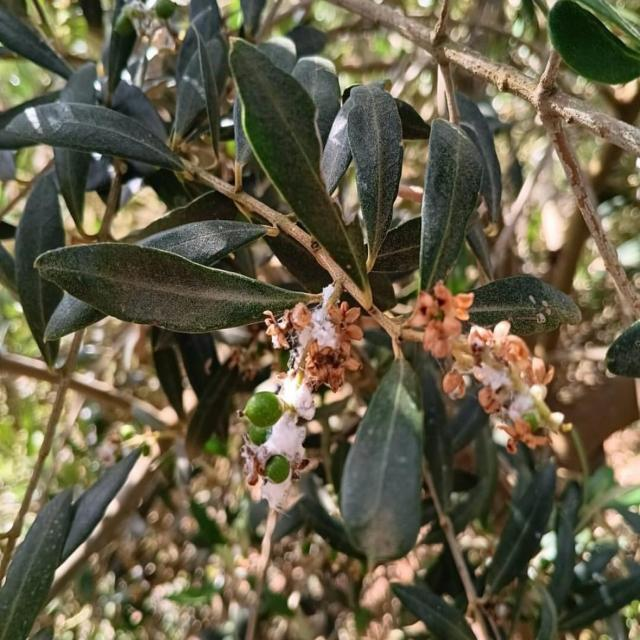Psyllid: (240, 284, 362, 514), (423, 294, 572, 456)
